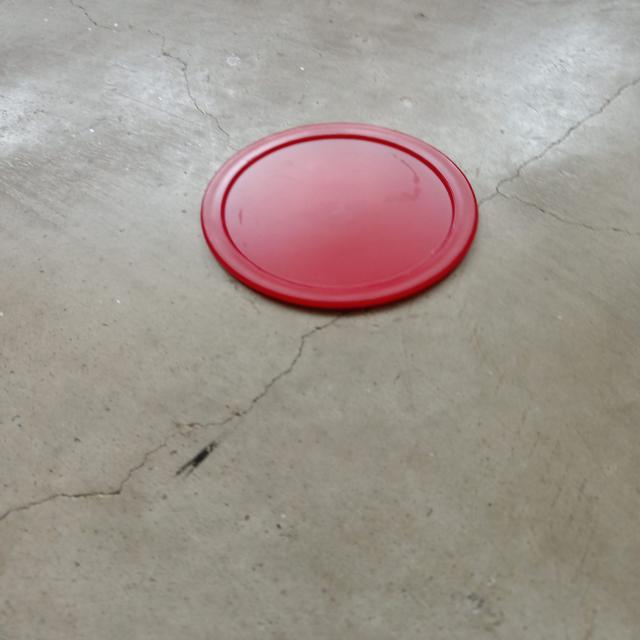chip: (196, 121, 480, 309)
